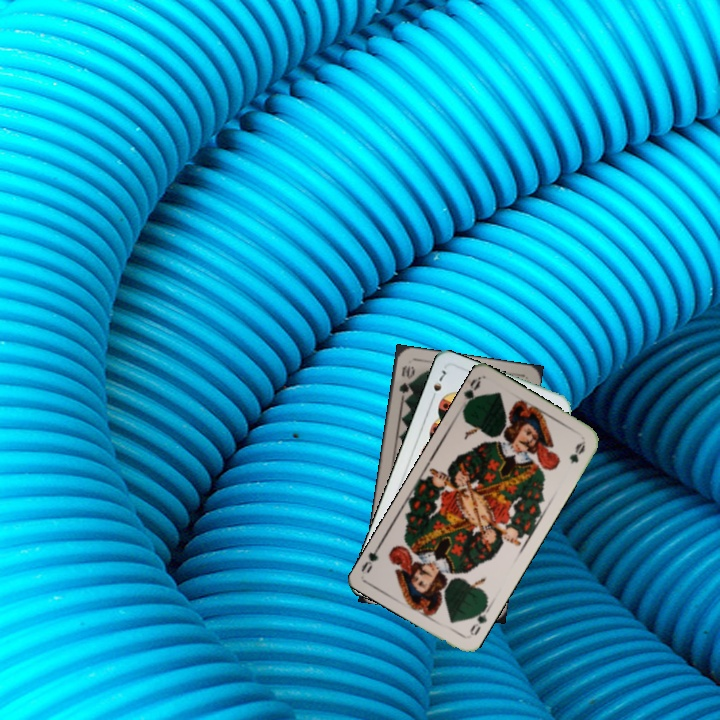G10: (395, 361, 416, 401)
GO: (458, 375, 483, 415), (466, 602, 493, 639)
S7: (427, 366, 449, 404)
